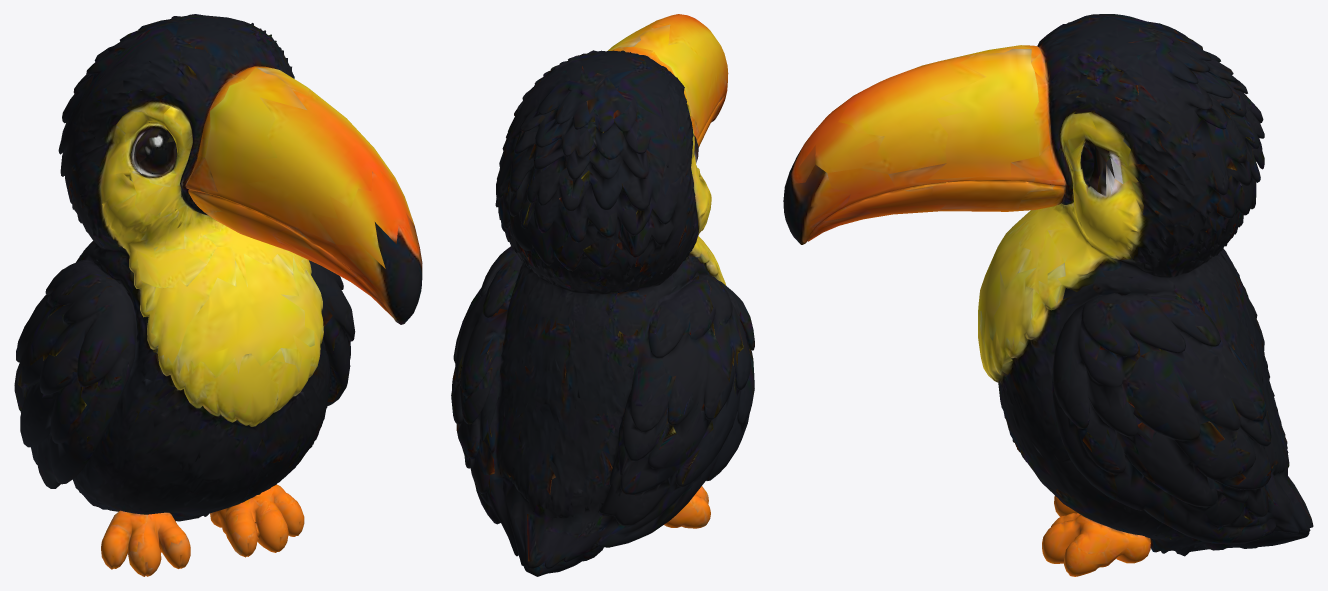
3 renders of one model, left to right at view 1: azimuth 30°, elevation 25°; view 2: azimuth 150°, elevation 25°; view 3: azimuth 270°, elevation 25°, orthographic. The views are drawn at different scales.
Bounding box in the file's own units: 1.16 × 1.9 × 1.77.
1 material, 1 textured.
